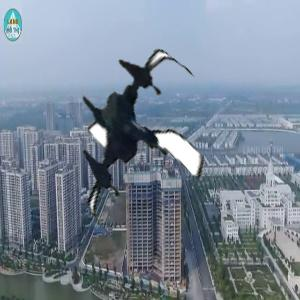drone: (49, 50, 222, 223)
